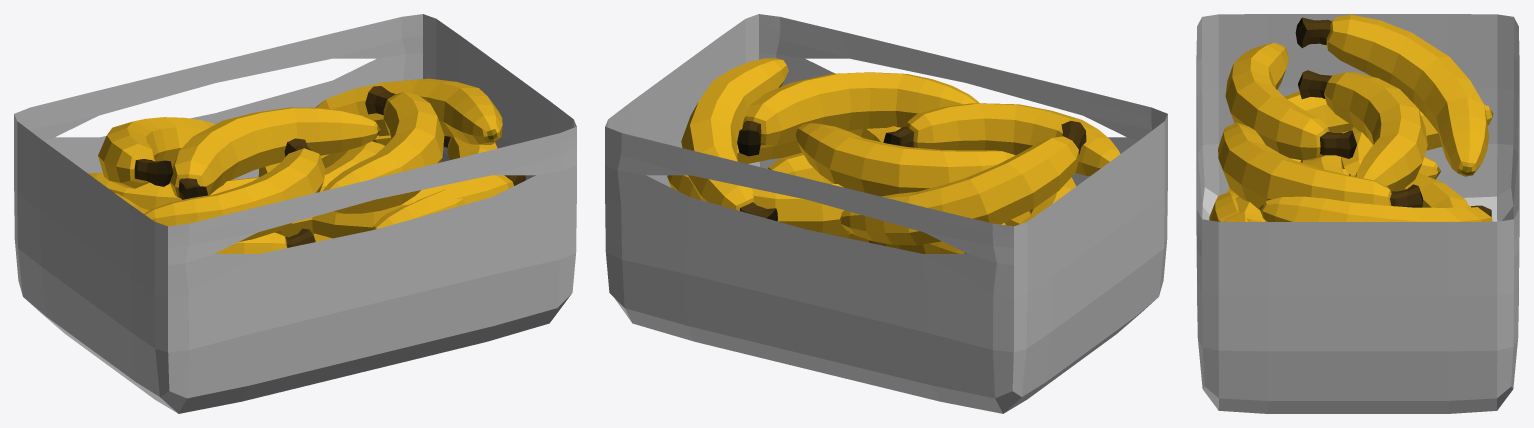
The model's file is box of bananas.fbx.
3 views of the same model, side by side, from view 1: azimuth 30°, elevation 25°; view 2: azimuth 150°, elevation 25°; view 3: azimuth 270°, elevation 25° (orthographic).
Parts seen in each view (by area): view 1: Cube, Cube.018, Cube.020, Cube.019, Cube.016, Cube.017, Cube.021, Cube.012, Cube.015, Cube.011, Cube.013; view 2: Cube, Cube.020, Cube.017, Cube.018, Cube.019, Cube.016, Cube.014, Cube.013, Cube.012, Cube.008; view 3: Cube, Cube.017, Cube.018, Cube.020, Cube.019, Cube.016, Cube.014, Cube.015, Cube.011, Cube.012, Cube.021, Cube.013 (+1 smaller).
Boxes of the visible parts, left/top/right/bottom form: Cube: left=14, top=14, right=576, bottom=413; Cube.018: left=170, top=107, right=380, bottom=199; Cube.020: left=323, top=86, right=444, bottom=213; Cube.019: left=144, top=138, right=325, bottom=241; Cube.016: left=315, top=78, right=502, bottom=144; Cube.017: left=98, top=117, right=215, bottom=188; Cube.021: left=312, top=175, right=525, bottom=238; Cube.012: left=372, top=136, right=497, bottom=230; Cube.015: left=87, top=173, right=259, bottom=210; Cube.011: left=115, top=193, right=315, bottom=253; Cube.013: left=275, top=139, right=384, bottom=237; Cube: left=605, top=14, right=1167, bottom=413; Cube.020: left=737, top=72, right=979, bottom=156; Cube.017: left=840, top=121, right=1086, bottom=245; Cube.018: left=795, top=123, right=1015, bottom=196; Cube.019: left=883, top=103, right=1120, bottom=176; Cube.016: left=681, top=58, right=788, bottom=221; Cube.014: left=667, top=175, right=849, bottom=235; Cube.013: left=768, top=152, right=832, bottom=183; Cube.012: left=737, top=127, right=801, bottom=163; Cube.008: left=834, top=232, right=964, bottom=253; Cube: left=1196, top=14, right=1519, bottom=413; Cube.017: left=1295, top=14, right=1488, bottom=176; Cube.018: left=1298, top=70, right=1427, bottom=191; Cube.020: left=1218, top=122, right=1422, bottom=209; Cube.019: left=1225, top=43, right=1356, bottom=160; Cube.016: left=1259, top=196, right=1492, bottom=221; Cube.014: left=1349, top=173, right=1468, bottom=207; Cube.015: left=1341, top=105, right=1493, bottom=176; Cube.011: left=1284, top=91, right=1353, bottom=132; Cube.012: left=1209, top=192, right=1261, bottom=221; Cube.021: left=1224, top=169, right=1348, bottom=221; Cube.013: left=1300, top=131, right=1348, bottom=173.
Bounding box in the file's own units: 305 × 155 × 200.
